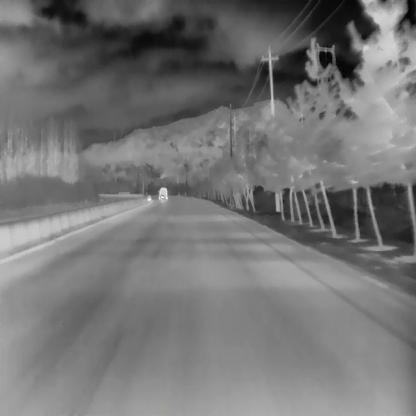car: (158, 186, 167, 199)
